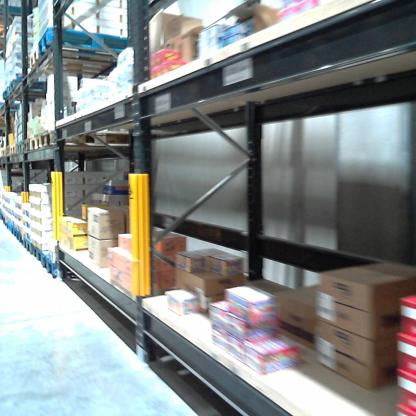pallet: (32, 18, 139, 72), (23, 43, 139, 74), (39, 128, 141, 156), (7, 77, 54, 97), (1, 85, 48, 104), (39, 254, 66, 281), (29, 235, 45, 267), (20, 233, 32, 255), (30, 132, 41, 154), (21, 138, 32, 154), (10, 221, 18, 241), (16, 230, 24, 249), (16, 138, 23, 152), (10, 139, 15, 157), (8, 218, 13, 235), (5, 141, 9, 160)
